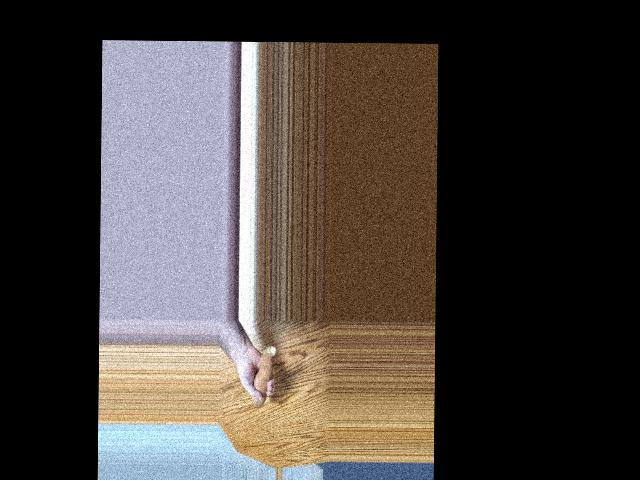sweet_potato: (248, 340, 274, 401)
